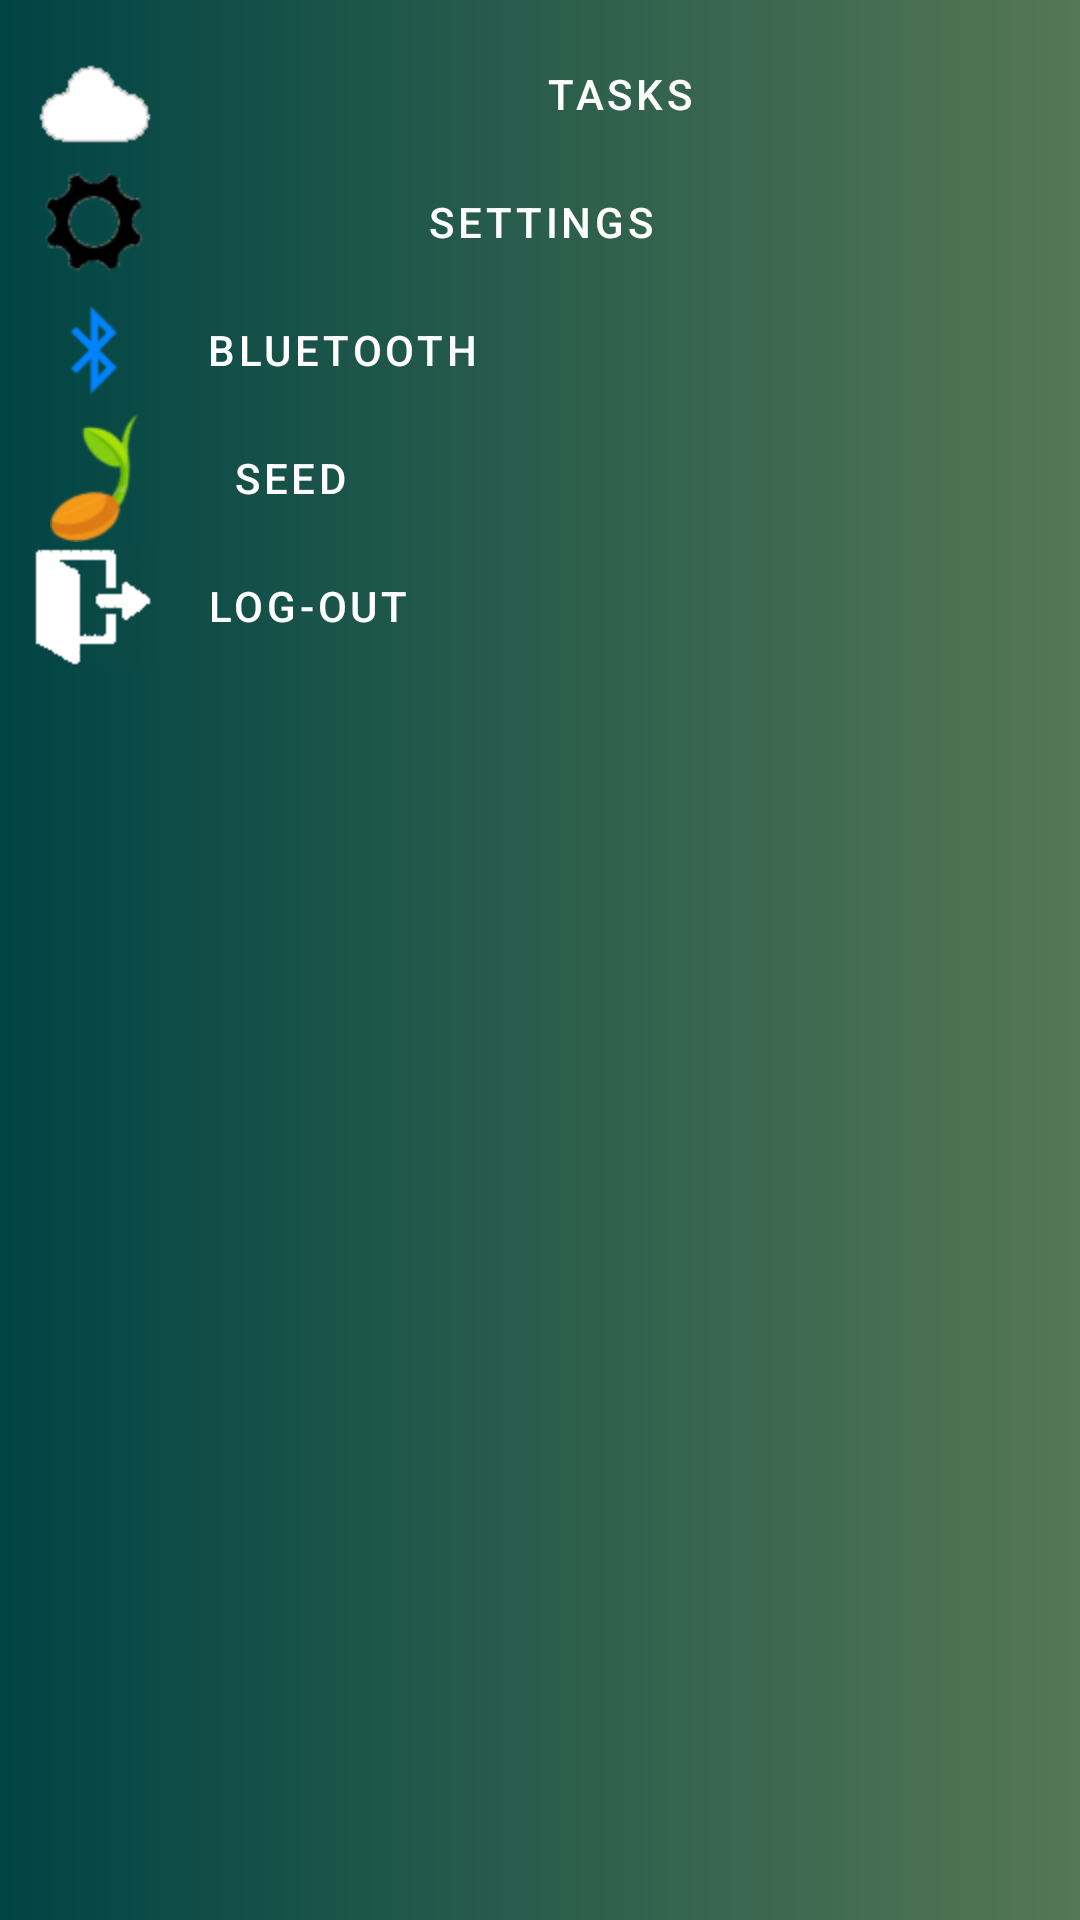

Screen size 1080px×1920px. Icon name, then its center in pixels as [x,y]:
cloud: [95,104]
